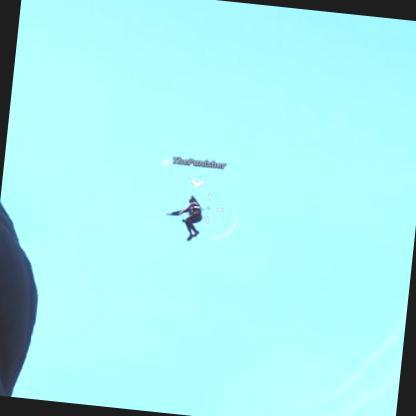person: (165, 192, 206, 242)
